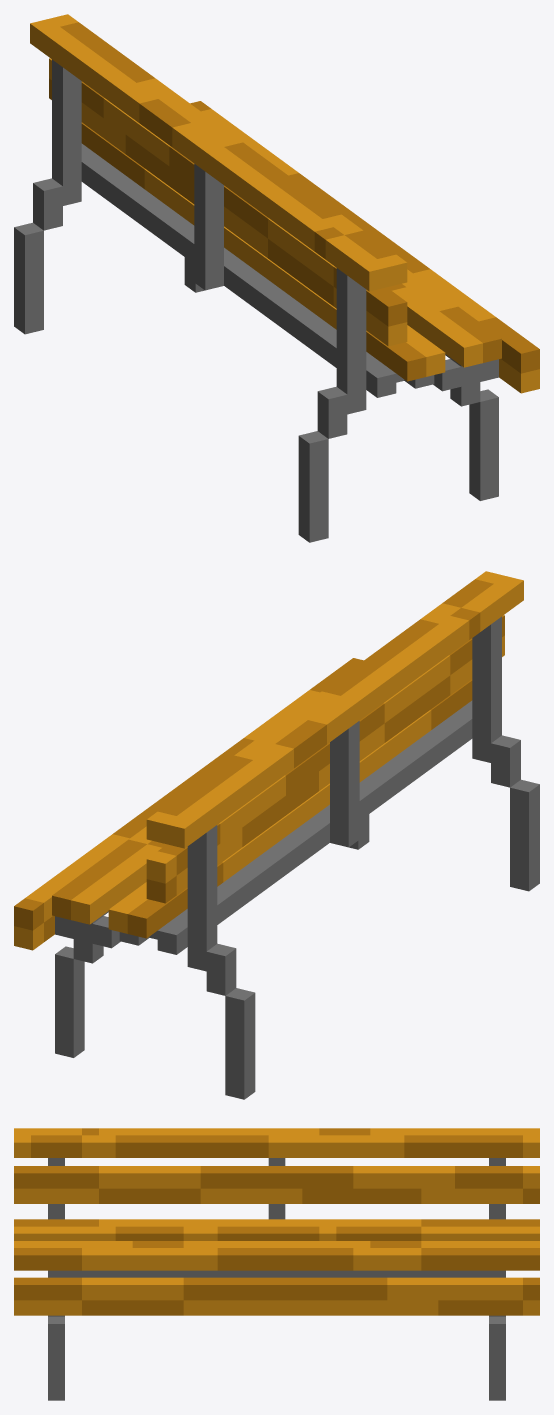
The model's file is bench.obj.
3 renders of one model, top to bottom at view 1: azimuth 30°, elevation 25°; view 2: azimuth 150°, elevation 25°; view 3: azimuth 270°, elevation 25°, orthographic. The views are drawn at different scales.
Size of the model in its own units: 1.1 by 1.4 by 3.1.
1 material, 1 textured.
